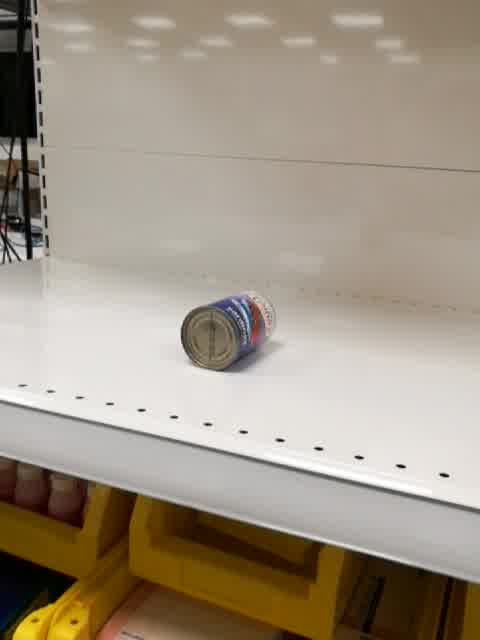sardine: (180, 289, 278, 372)
